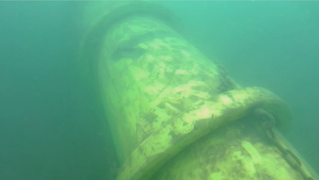1: (111, 30, 186, 61)
pipe: (76, 1, 318, 179)
